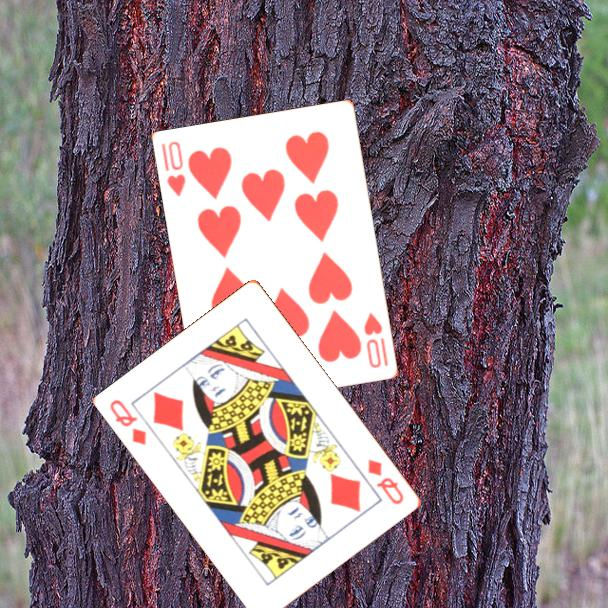d12: (107, 396, 150, 448), (365, 455, 407, 508)
h10: (158, 138, 189, 200), (361, 309, 391, 371)
